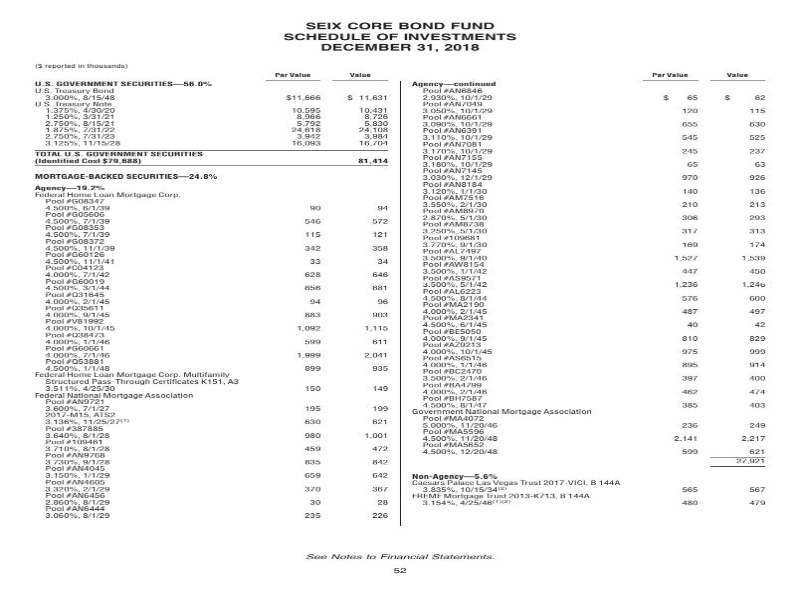table: (25, 57, 407, 542), (394, 67, 789, 531)
